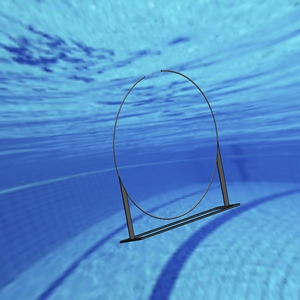circle: (110, 68, 239, 241)
